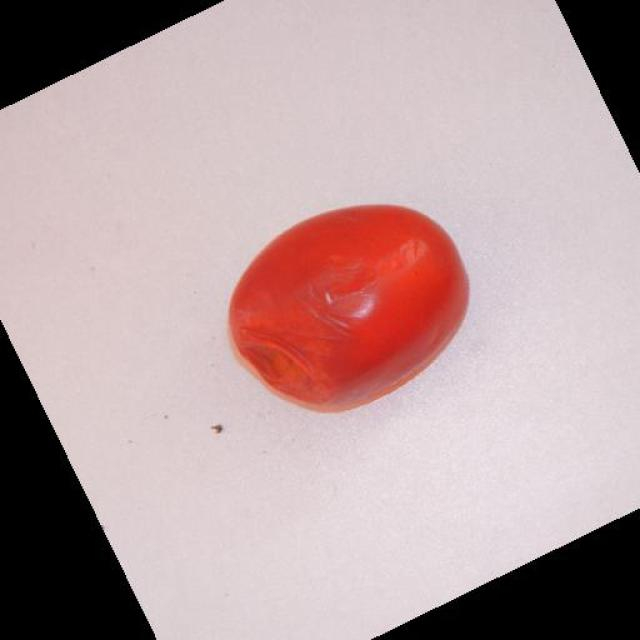Stale_tomato: (234, 186, 454, 395)
